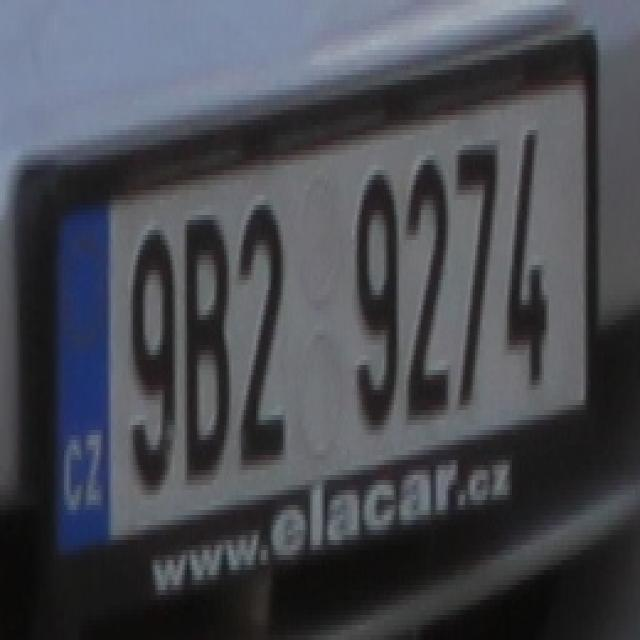2: (234, 200, 285, 480), (406, 155, 451, 420)
4: (502, 125, 552, 395)
7: (453, 135, 500, 415)
9: (354, 170, 404, 430), (130, 230, 175, 485)
B: (182, 215, 232, 480)
